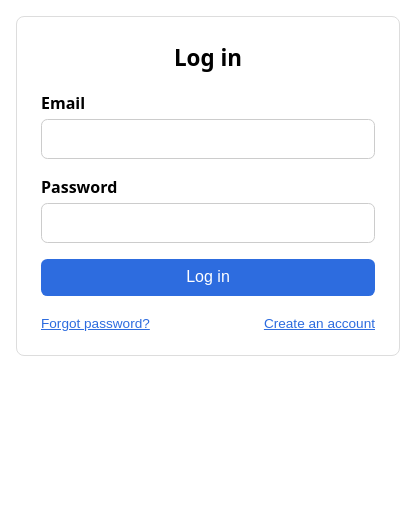
Scenario: offers to resend the verification email on 403
Type "me@example.com" into the field labelled "Email".
click(208, 139); type("me@example.com")  # box [41, 119, 375, 159]
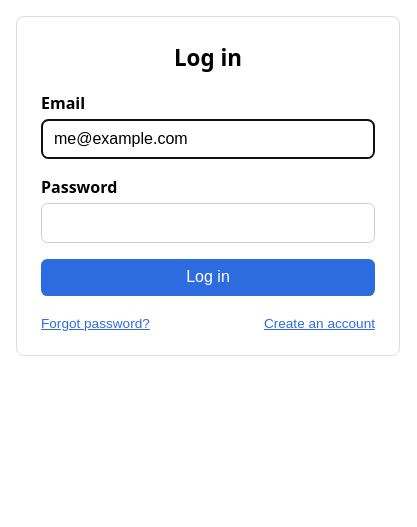
Type "longpassword1" into the password field labelled "Password".
click(208, 223); type("longpassword1")  # box [41, 203, 375, 243]
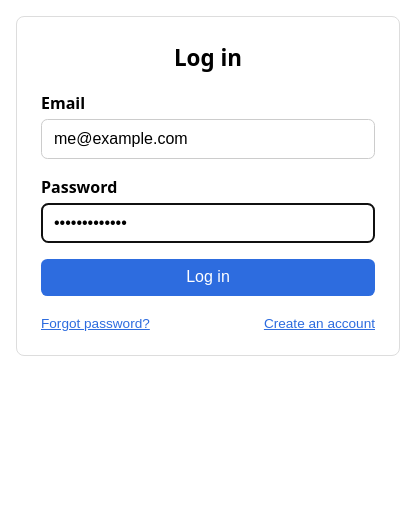
Click the button "Log in".
click(208, 277)  # box [41, 259, 375, 296]
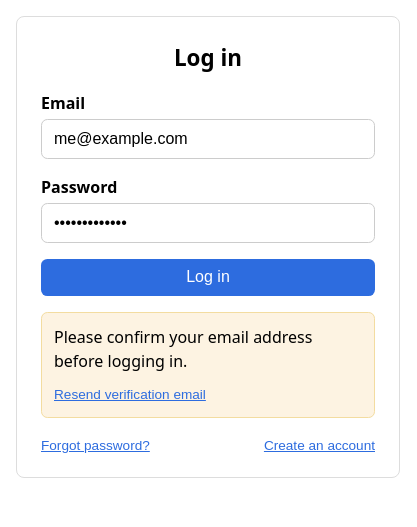
Click the button "Resend verification email".
click(130, 394)  # box [54, 387, 206, 402]
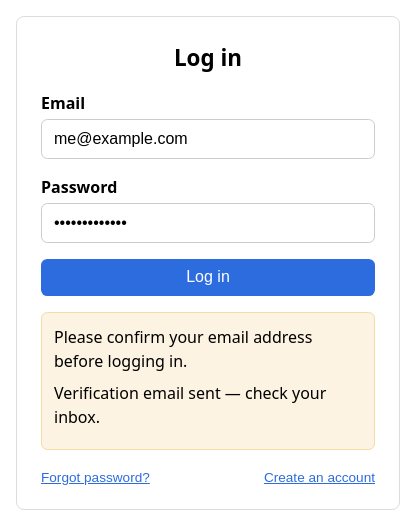
Now the text "Verification email sent — check your inbox." is shown, box [54, 381, 362, 429]
